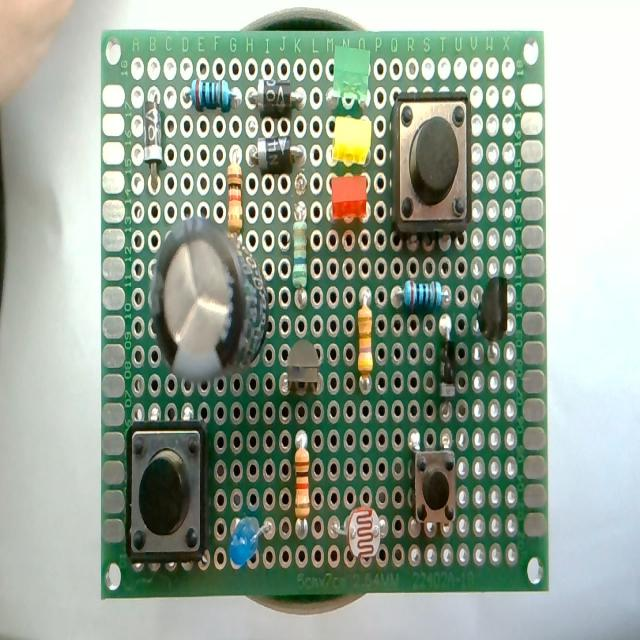Electrolytic capacitor: (148, 218, 272, 388)
cds: (331, 497, 394, 564)
diode: (134, 87, 178, 192), (431, 309, 465, 425), (245, 124, 305, 180), (248, 70, 310, 118)
led: (221, 510, 283, 563), (324, 112, 376, 172), (327, 46, 375, 108), (324, 165, 373, 224)
resistor: (285, 422, 318, 534), (346, 287, 378, 397), (282, 197, 310, 312), (180, 66, 240, 114), (393, 268, 451, 314), (225, 140, 247, 240)
switch: (386, 87, 476, 244), (123, 420, 205, 574), (408, 423, 458, 535)
transistor: (468, 262, 509, 378)
